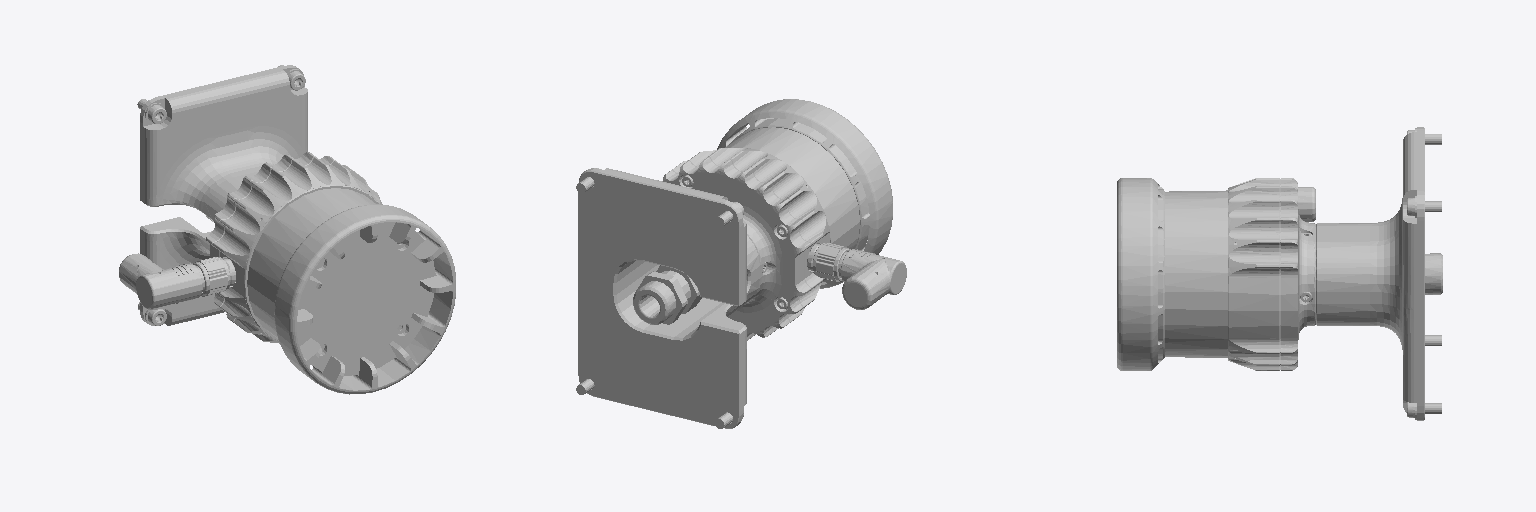
Rendered from ouster.obj.
3 views of the same model, side by side, from view 1: azimuth 30°, elevation 25°; view 2: azimuth 150°, elevation 25°; view 3: azimuth 270°, elevation 25° (orthographic).
Visible parts, largest first — view 1: ouster; view 2: ouster; view 3: ouster.
Boxes of the visible parts, <box> form: ouster: <box>119,65,455,394</box>; ouster: <box>576,99,906,428</box>; ouster: <box>1117,127,1442,420</box>.
Size of the model in its own units: 126 by 112 by 146.